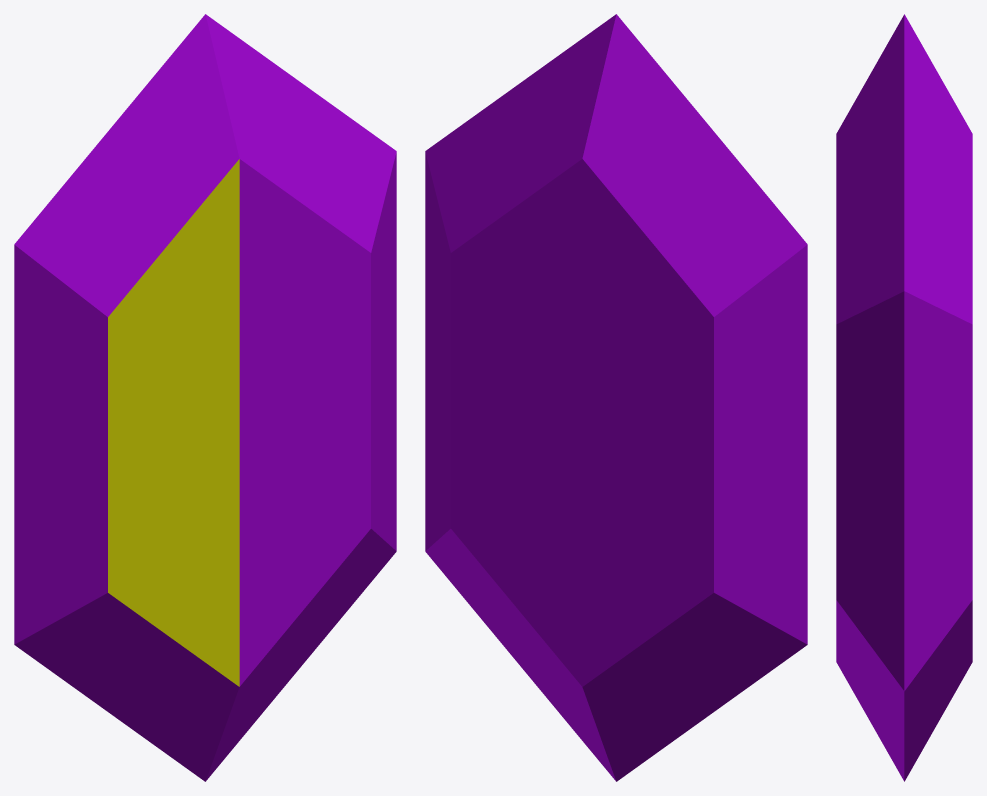
File: rupi3.fbx
The picture shows the model from 3 angles, left to right: view 1: azimuth 30°, elevation 25°; view 2: azimuth 150°, elevation 25°; view 3: azimuth 270°, elevation 25°; orthographic projection.
Parts seen in each view (by area): view 1: Plane; view 2: Plane; view 3: Plane.
Part boxes in pixels (box(x1,y1,x2,y2)): Plane: box(14, 14, 396, 781); Plane: box(425, 14, 807, 781); Plane: box(836, 14, 972, 781).
Bounding box in the file's own units: 68.03 × 131 × 20.98.
